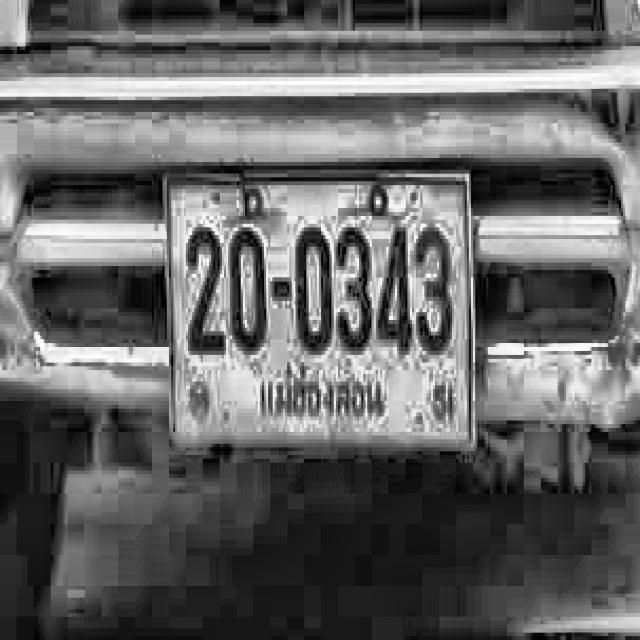license-plate: (155, 156, 484, 464)
